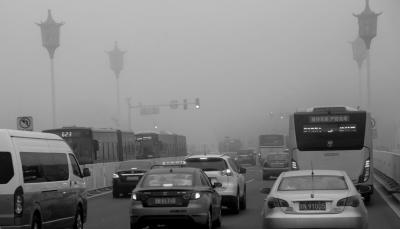bus: (282, 105, 377, 203), (40, 126, 136, 181), (133, 131, 187, 168), (256, 132, 290, 170)
car: (1, 128, 91, 229), (259, 160, 371, 229), (128, 167, 223, 229), (178, 144, 247, 215), (146, 161, 201, 210), (112, 160, 154, 199), (262, 153, 293, 179), (234, 148, 256, 166)
